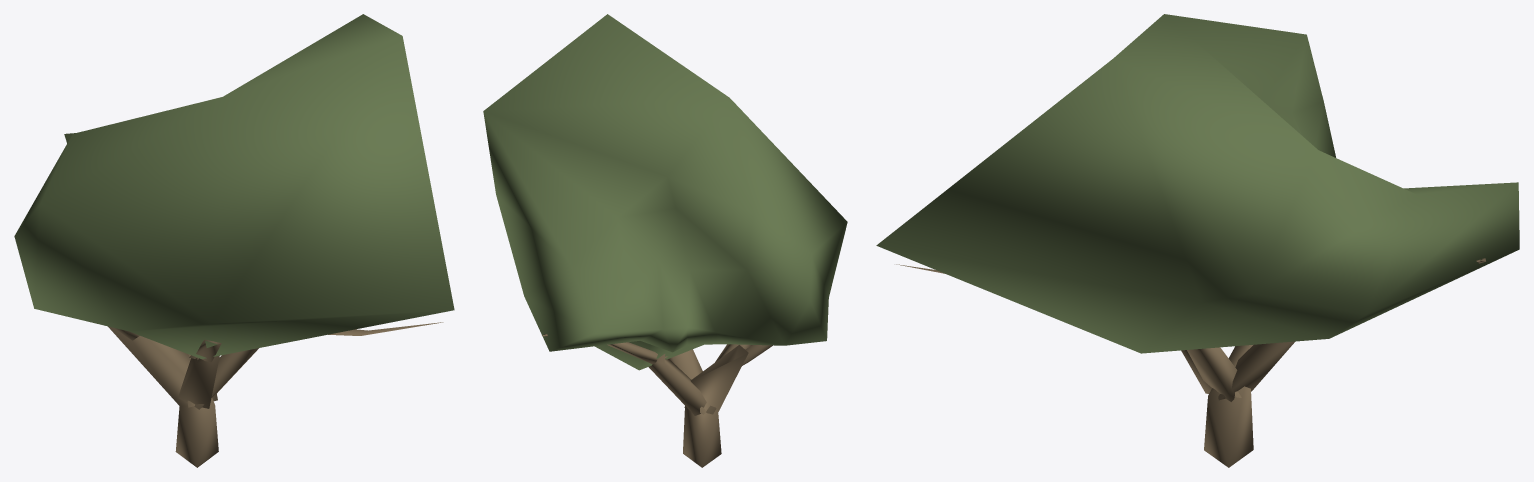
The model's file is Bush small 2 SB1.fbx.
3 renders of one model, left to right at view 1: azimuth 30°, elevation 25°; view 2: azimuth 150°, elevation 25°; view 3: azimuth 270°, elevation 25°, orthographic. The views are drawn at different scales.
Parts seen in each view (by area): view 1: tree.003; view 2: tree.003; view 3: tree.003.
Boxes of the visible parts, x1,y1,x2,y2 form: tree.003: (14,14,454,467); tree.003: (483,14,847,467); tree.003: (876,14,1519,467).
Bounding box in the file's own units: 77.23 × 83.64 × 101.
